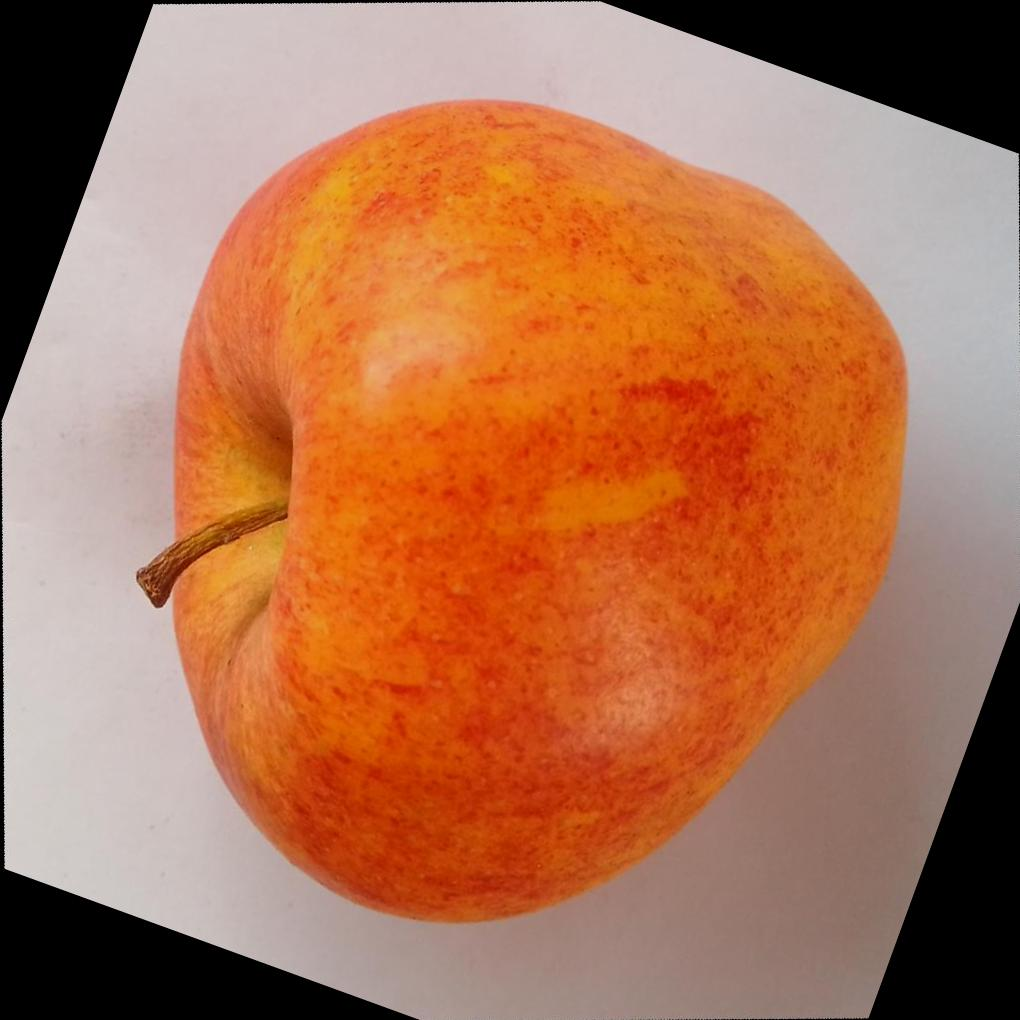FreshGuava: (135, 92, 911, 924)
